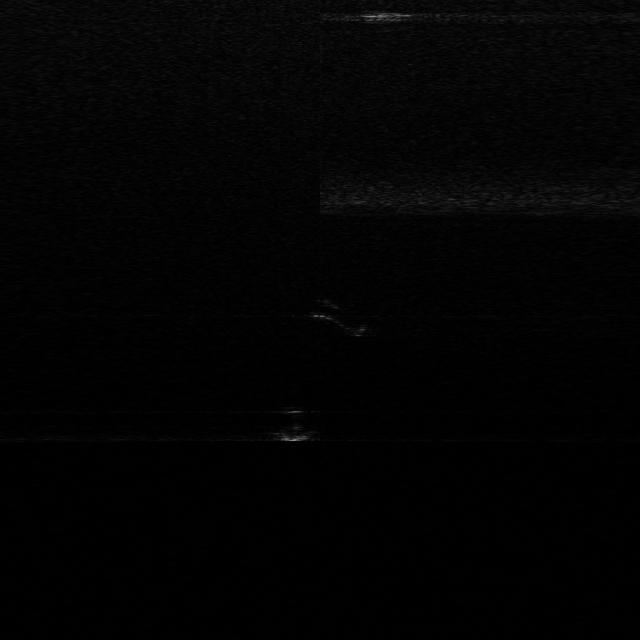ball: (266, 406, 320, 442)
tyre: (313, 298, 379, 338)
